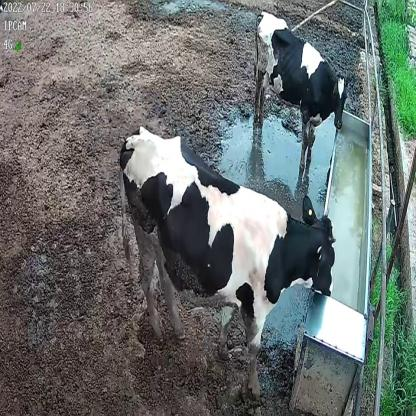cow: (115, 121, 337, 401), (252, 7, 352, 177)
